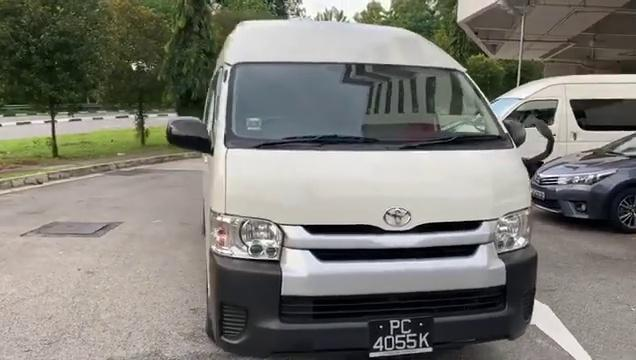Van: (185, 13, 548, 351)
